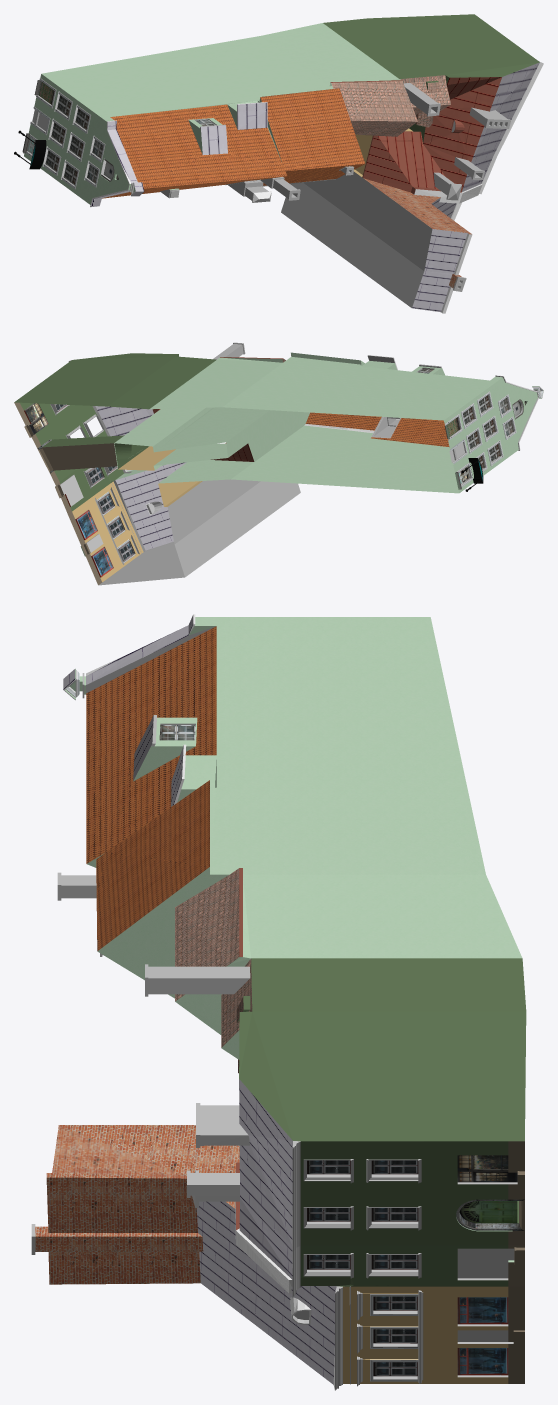
The model's file is Raekoja_plats_16.obj.
The picture shows the model from 3 angles, top to bottom: view 1: azimuth 30°, elevation 25°; view 2: azimuth 150°, elevation 25°; view 3: azimuth 270°, elevation 25°; orthographic projection. The views are drawn at different scales.
Parts seen in each view (by area): view 1: Raekoja_plats_16; view 2: Raekoja_plats_16; view 3: Raekoja_plats_16.
Part boxes in pixels (box(x1,y1,x2,y2)): Raekoja_plats_16: box(14, 14, 543, 313); Raekoja_plats_16: box(14, 342, 543, 585); Raekoja_plats_16: box(31, 614, 526, 1390).
Size of the model in its own units: 51.3 by 25.84 by 25.28.
